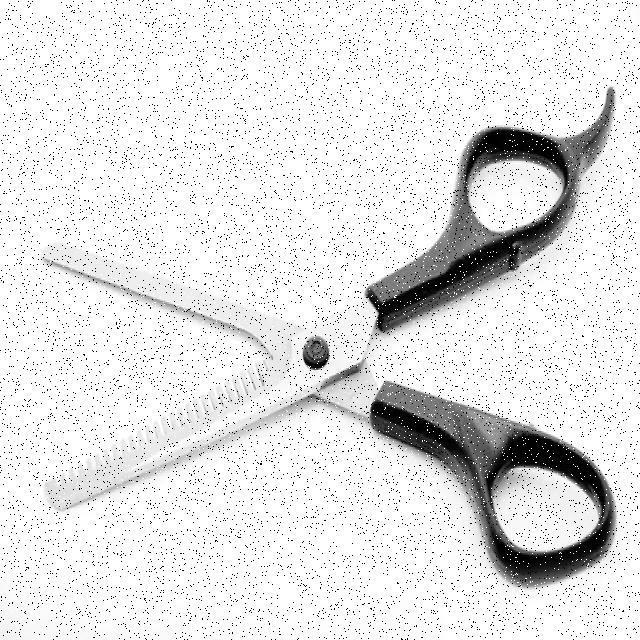scissors: (36, 79, 624, 591)
